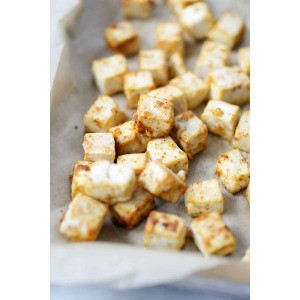tofu_brain food: (58, 17, 240, 244)
